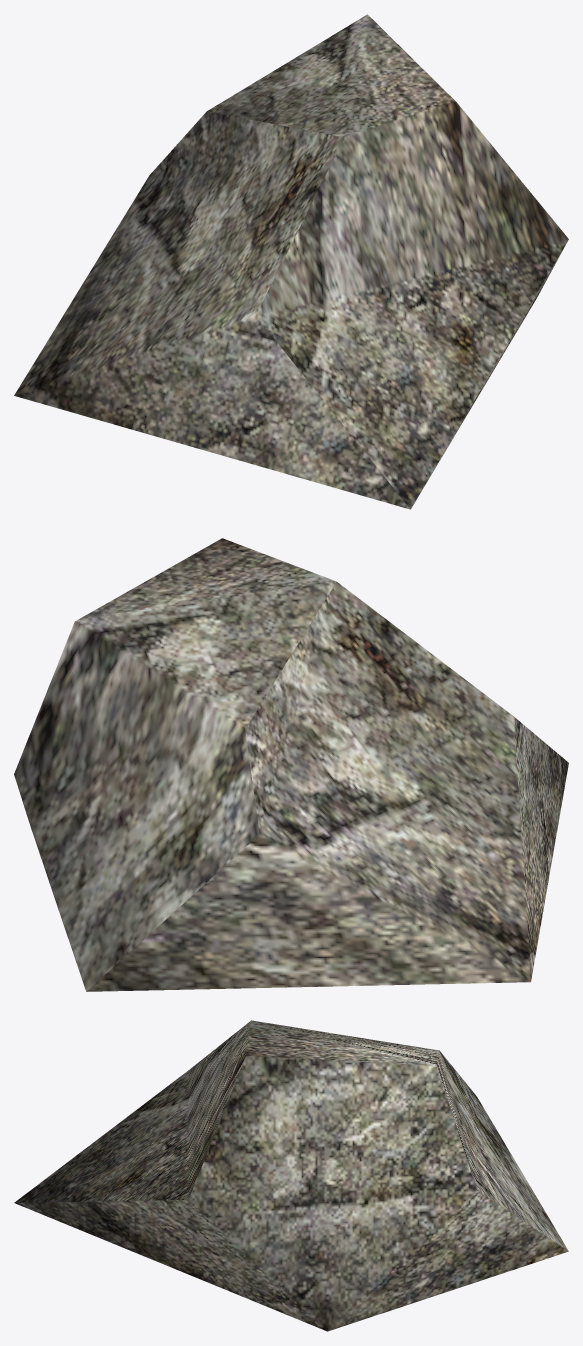
File: general_obj_pieceofstone02.fbx
The picture shows the model from 3 angles, top to bottom: view 1: azimuth 30°, elevation 25°; view 2: azimuth 150°, elevation 25°; view 3: azimuth 270°, elevation 25°; orthographic projection. The views are drawn at different scales.
Parts seen in each view (by area): view 1: Object03; view 2: Object03; view 3: Object03.
Boxes of the visible parts, left/top/right/bottom form: Object03: left=14, top=14, right=568, bottom=509; Object03: left=14, top=538, right=568, bottom=991; Object03: left=14, top=1020, right=568, bottom=1331.
Bounding box in the file's own units: 0.385 × 0.1965 × 0.4439.
